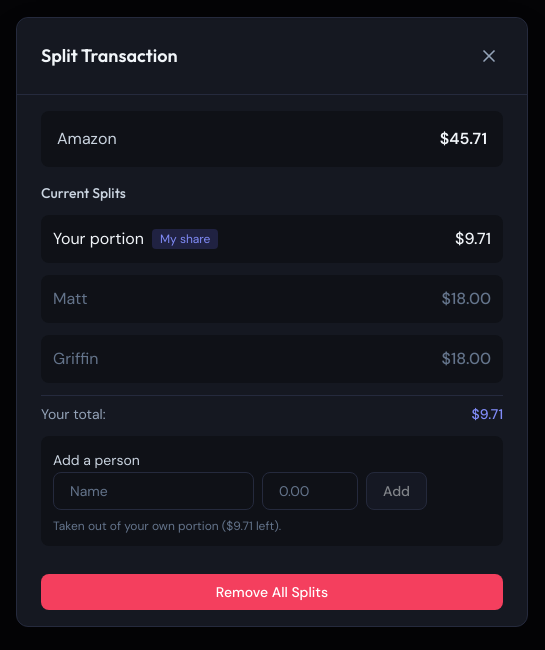
Test: SplitTransactionModal — adding a person to an already-split transaction › shows the server error message when adding a person fails
Type "Eli" into the field with placeholder "Name". click: (154, 491)
box: [53,472,254,510]
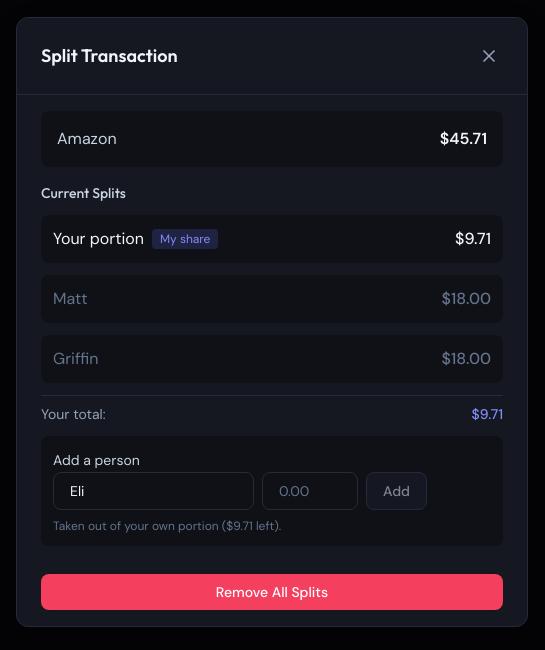
Type "50" into the number field with placeholder "0.00". click: (310, 491)
box: [262,472,358,510]
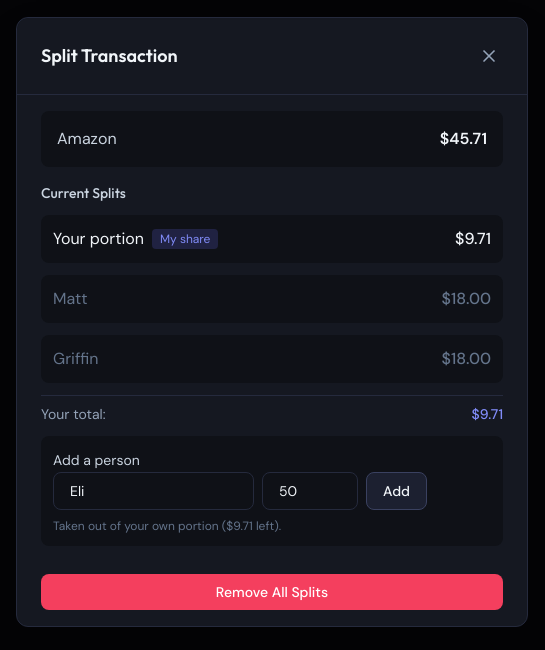
Click the button "Add". click: (396, 491)
box: [366,472,427,510]
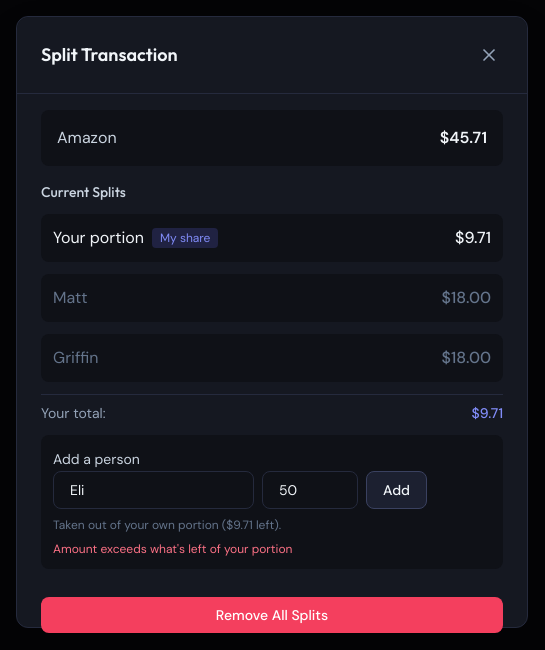
Result: the message reads "Amount exceeds what's left of your portion" at [53,541,292,557]
